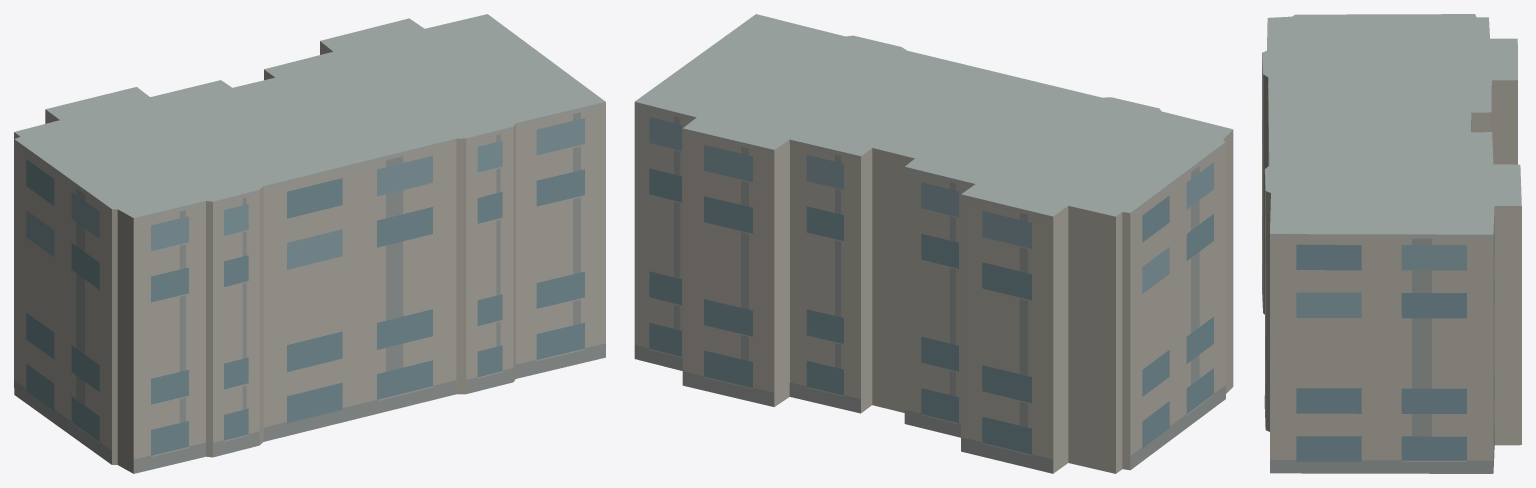
Rendered from survey-upis-32964904.glb.
3 views of the same model, side by side, from view 1: azimuth 30°, elevation 25°; view 2: azimuth 150°, elevation 25°; view 3: azimuth 270°, elevation 25° (orthographic). The views are drawn at different scales.
Parts seen in each view (by area): view 1: survey-upis-32964904.tmp; view 2: survey-upis-32964904.tmp; view 3: survey-upis-32964904.tmp.
Boxes of the visible parts, x1,y1,x2,y2 form: survey-upis-32964904.tmp: [14, 14, 605, 473]; survey-upis-32964904.tmp: [634, 14, 1233, 473]; survey-upis-32964904.tmp: [1262, 14, 1521, 473].
Size of the model in its own units: 27.89 by 14.1 by 13.88.
